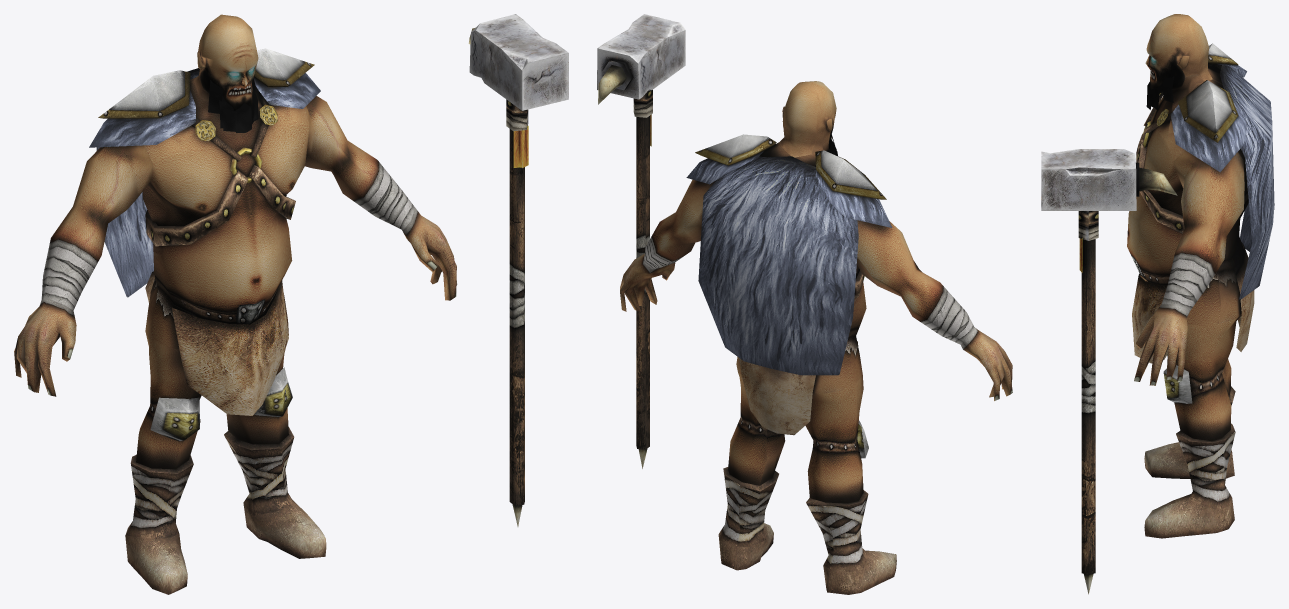
Rendered from Barbarian.FBX.
The picture shows the model from 3 angles, left to right: view 1: azimuth 30°, elevation 25°; view 2: azimuth 150°, elevation 25°; view 3: azimuth 270°, elevation 25°; orthographic projection. The views are drawn at different scales.
Parts seen in each view (by area): view 1: Barbarian, warhammer; view 2: Barbarian, warhammer; view 3: Barbarian, warhammer.
Boxes of the visible parts, left/top/right/bottom form: Barbarian: left=14, top=14, right=457, bottom=594; warhammer: left=468, top=14, right=568, bottom=526; Barbarian: left=620, top=81, right=1012, bottom=594; warhammer: left=597, top=14, right=685, bottom=468; Barbarian: left=1127, top=14, right=1274, bottom=538; warhammer: left=1041, top=149, right=1177, bottom=594.
Size of the model in its own units: 70.87 by 76.93 by 33.51.
1 material, 1 textured.
